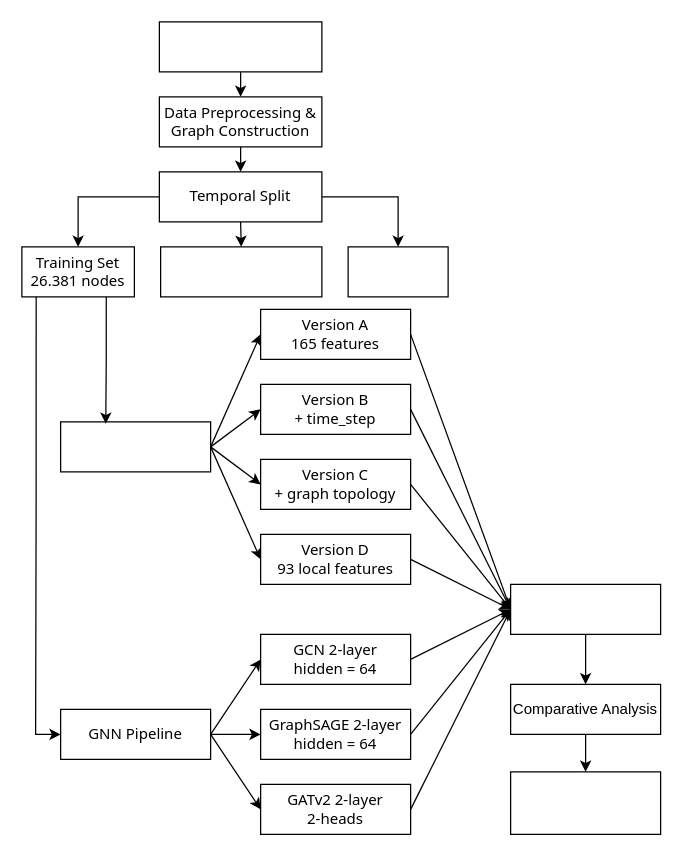
Image size: 683x856. Some labels were removed from this diagram. The shapes that lost their labels are listed below. From the top down, each one's box as (x1, y1, x2, y2) in pixels, then its label:
(158, 21, 322, 72): Raw Elliptic CSV Files
(159, 246, 322, 297): Validation Set 3513 nodes
(347, 246, 448, 297): Test Set 16.670 nodes
(59, 421, 211, 472): XGBoost Pipeline
(509, 583, 661, 634): Multi-seed (3)
(509, 771, 661, 834): Results
